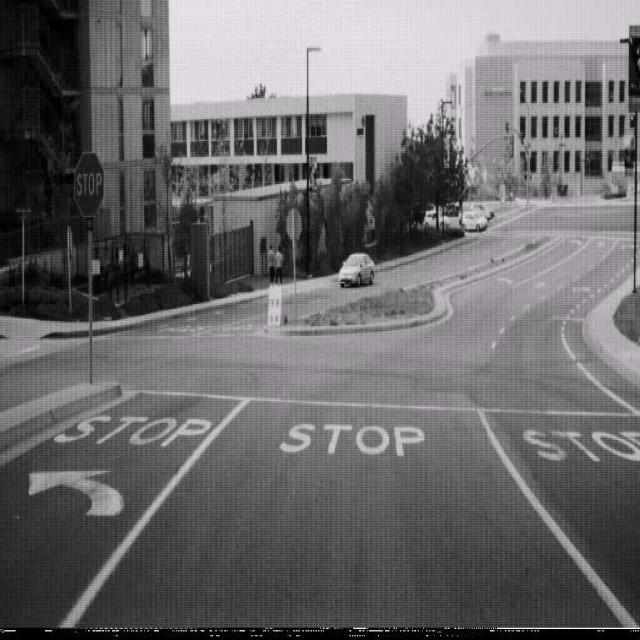stop: (74, 150, 105, 220)
